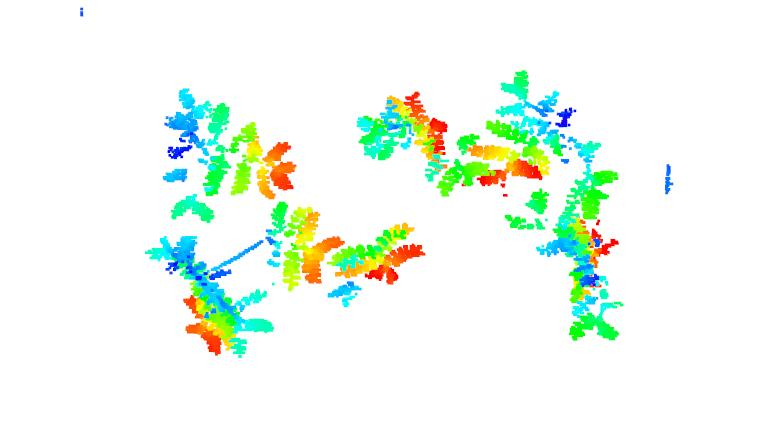chickpea: (456, 71, 621, 217), (155, 88, 303, 223), (501, 208, 626, 347), (267, 202, 424, 310), (142, 235, 272, 360), (346, 89, 448, 185)
